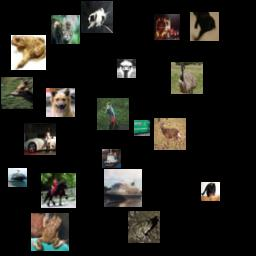automobile: (24, 123, 56, 155)
bird: (97, 98, 129, 130), (171, 62, 203, 94), (117, 59, 136, 78)
cat: (51, 15, 80, 44), (190, 12, 219, 41), (201, 182, 220, 201)
deer: (154, 118, 186, 150), (1, 77, 33, 109)
dog: (81, 1, 113, 33), (46, 88, 75, 117)
frog: (31, 213, 69, 251), (11, 35, 46, 70), (128, 211, 160, 243)
ship: (104, 169, 142, 207), (8, 168, 27, 187), (102, 149, 121, 168)
truck: (154, 14, 180, 40), (134, 120, 150, 136)
